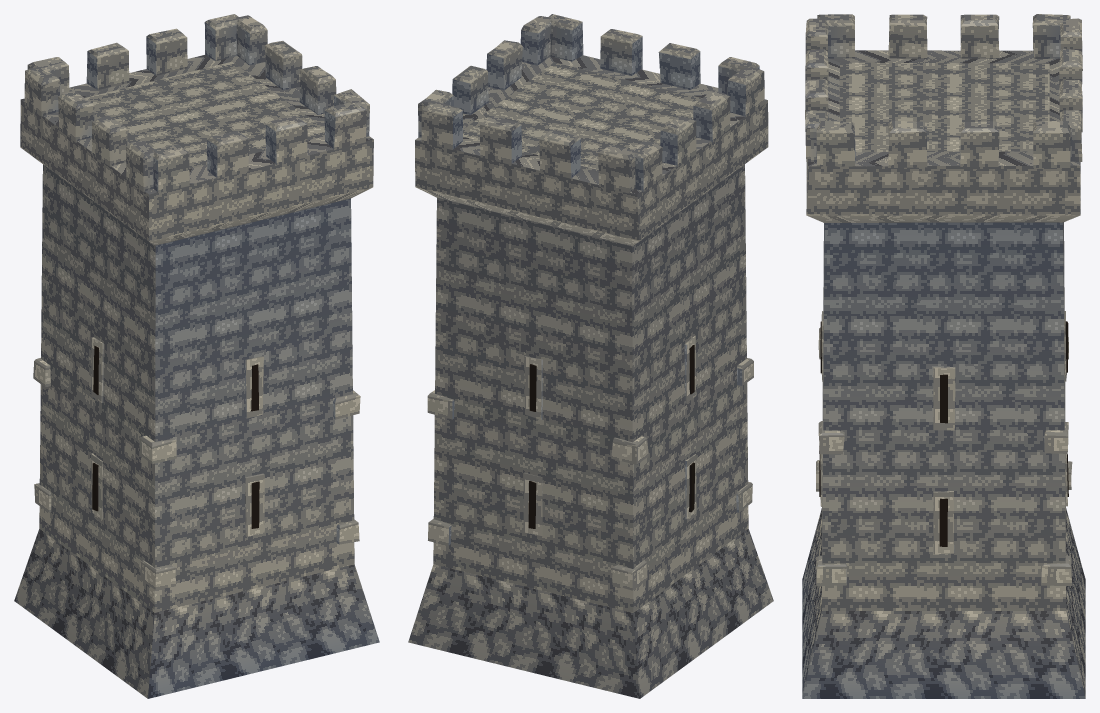
The model's file is cst.tower_square.glb.
3 views of the same model, side by side, from view 1: azimuth 30°, elevation 25°; view 2: azimuth 150°, elevation 25°; view 3: azimuth 270°, elevation 25° (orthographic). The views are drawn at different scales.
Visible parts, largest first — view 1: kit_shaft, kit_top, kit_detail; view 2: kit_shaft, kit_top, kit_detail; view 3: kit_shaft, kit_top, kit_detail.
Boxes of the visible parts, <box> form: kit_shaft: <box>14,164,379,698</box>; kit_top: <box>20,14,373,245</box>; kit_detail: <box>33,337,360,589</box>; kit_shaft: <box>408,164,773,698</box>; kit_top: <box>415,14,768,246</box>; kit_detail: <box>427,336,753,590</box>; kit_shaft: <box>802,222,1085,698</box>; kit_top: <box>805,14,1082,222</box>; kit_detail: <box>816,311,1072,586</box>.
Size of the model in its own units: 5.8 by 12.85 by 5.8.
Materials: 5 (5 with a texture image).
